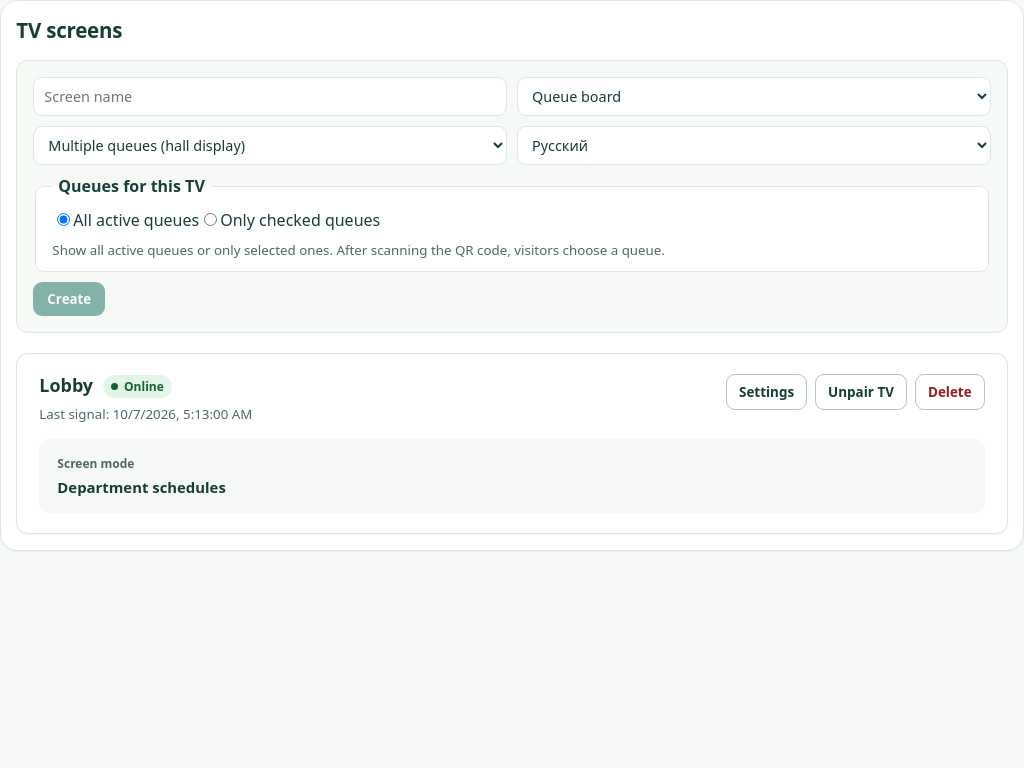
Test case: unpairs a TV without removing its screen settings and shows the new code
Step 1. Click the button "Unpair TV" → (861,392), box [815, 374, 907, 410]
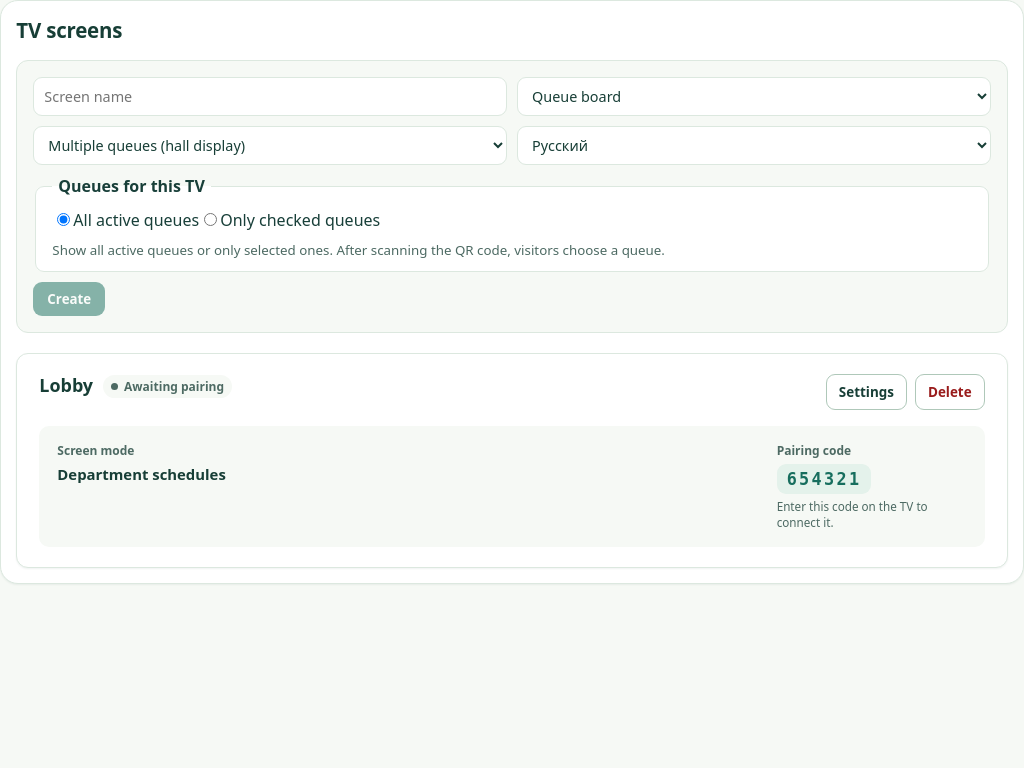
Expected: the heading "Lobby" is shown, [39, 374, 93, 398]
Expected: the text "654321" is shown, [777, 464, 871, 494]
Expected: the button "Unpair TV" is gone
